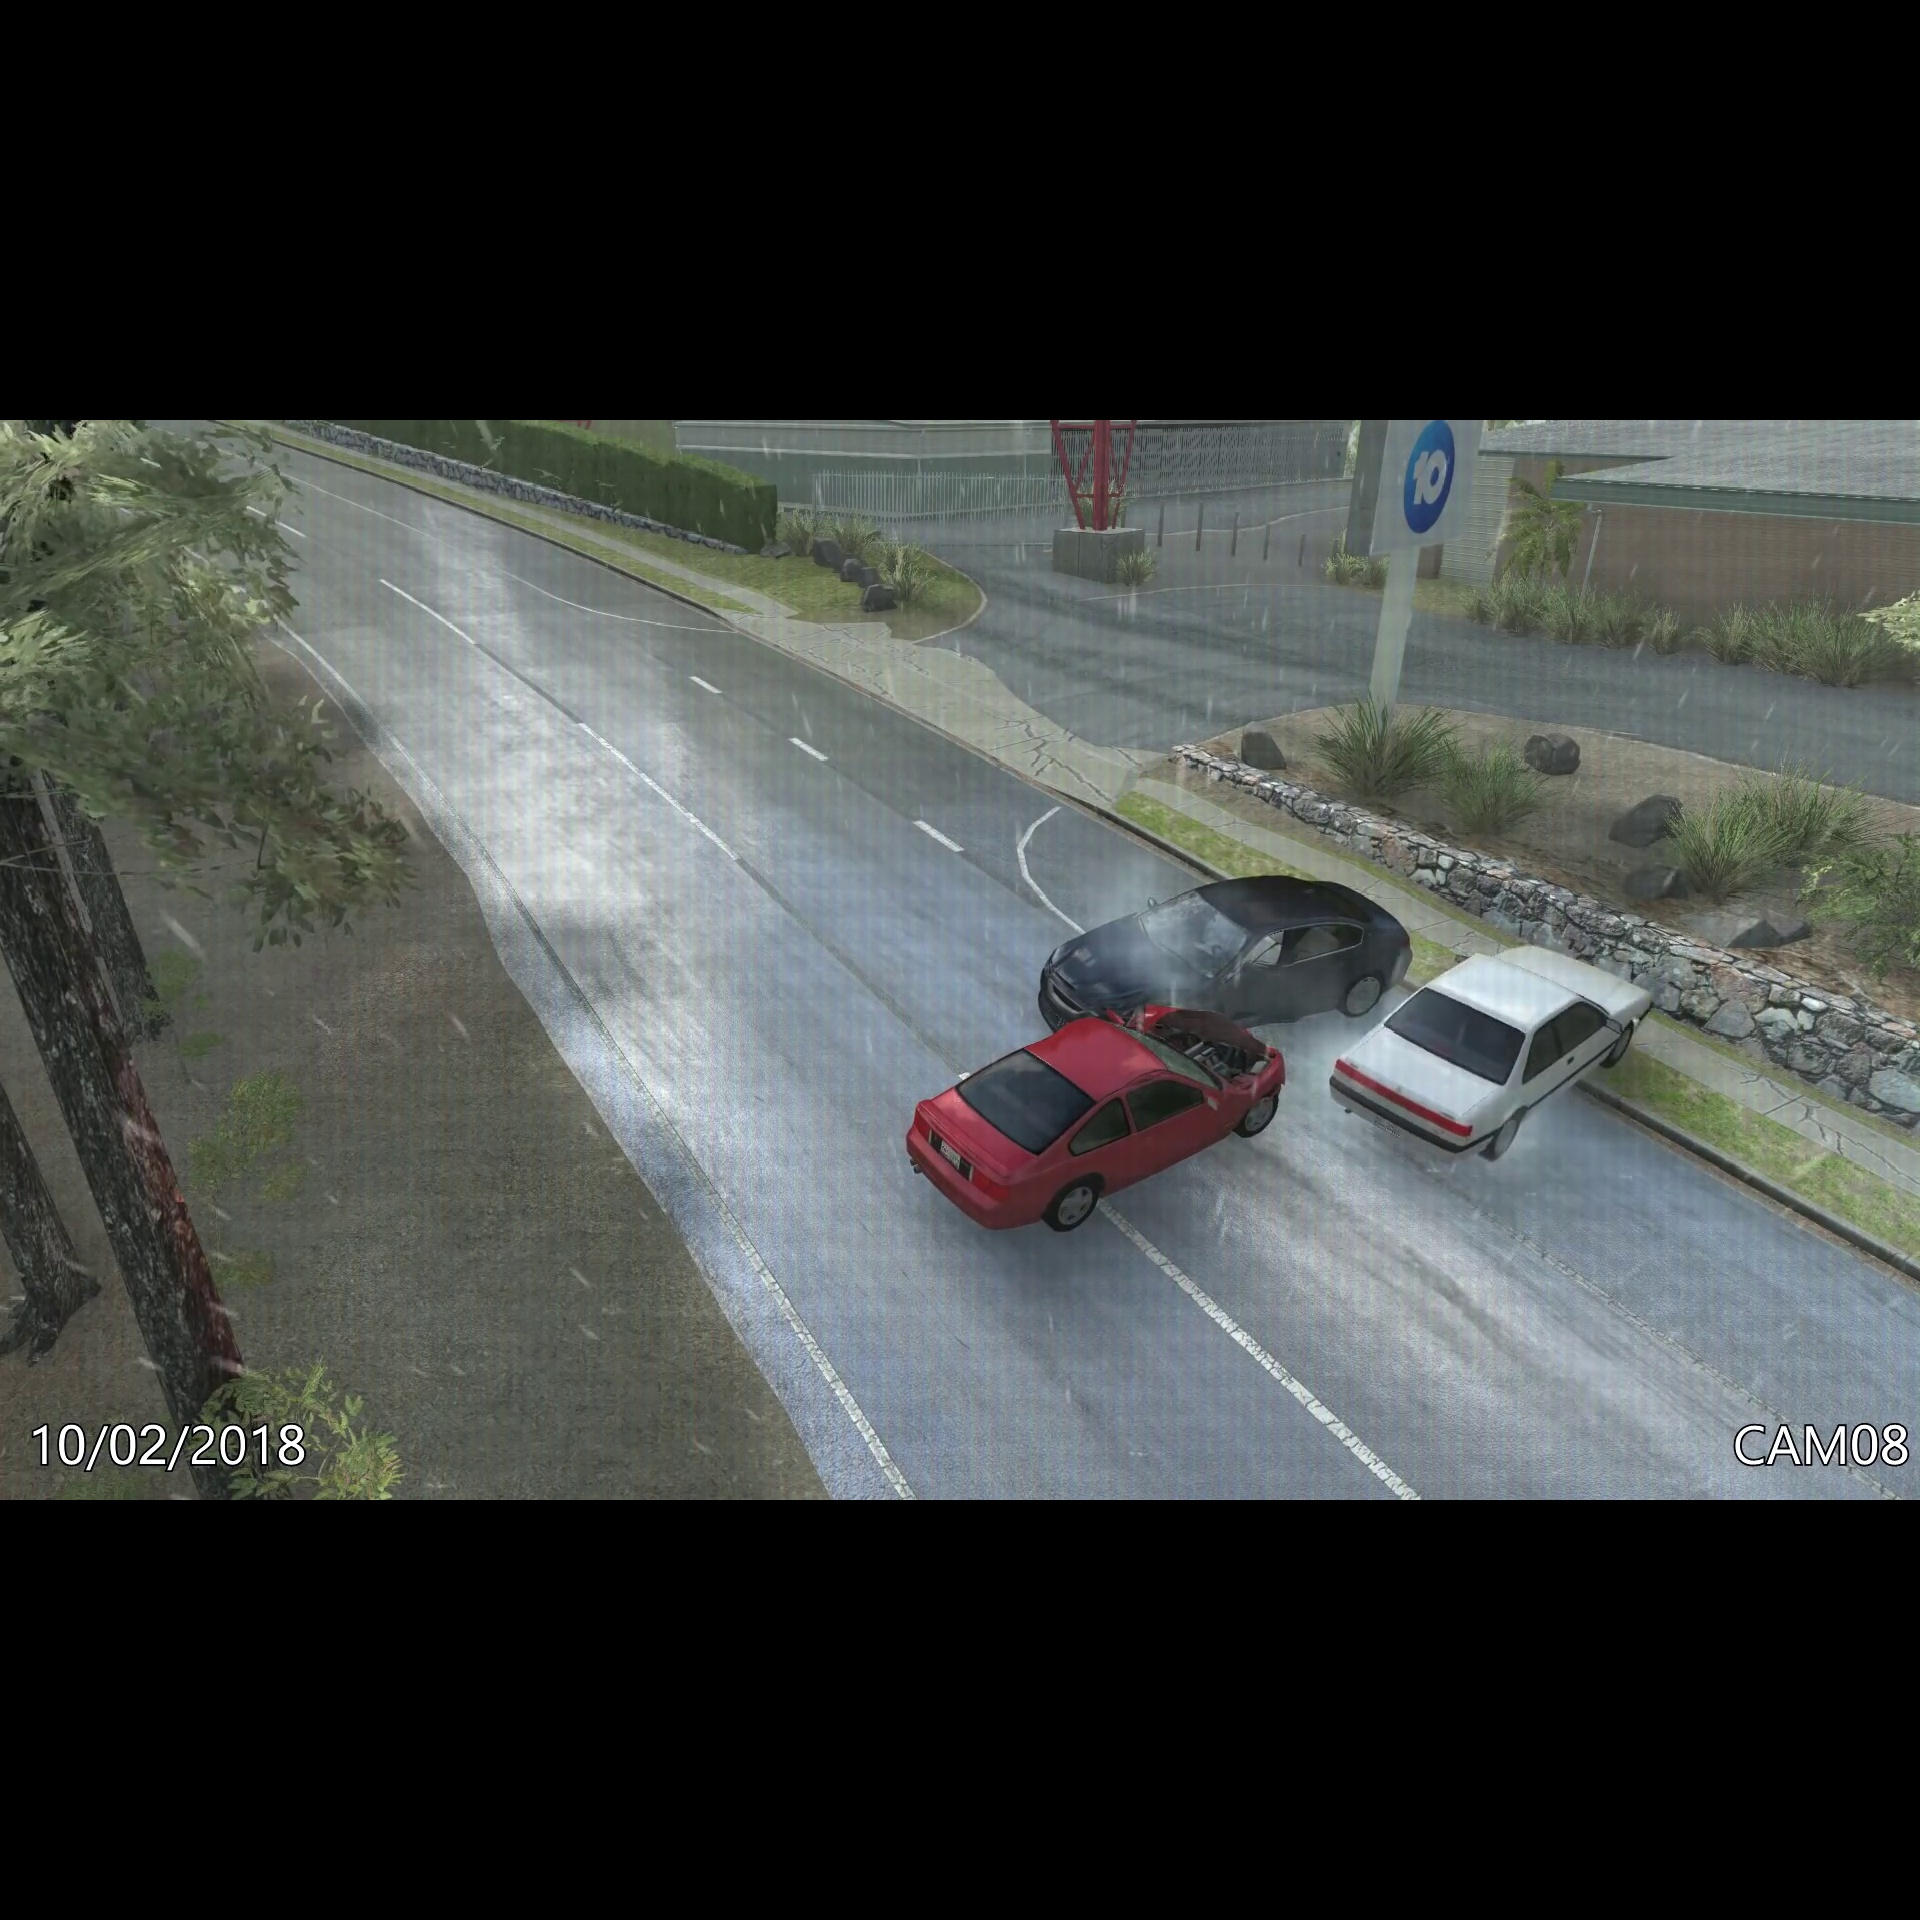vehicle: (897, 1007, 1301, 1241), (1320, 937, 1669, 1173), (1029, 863, 1414, 1030)
